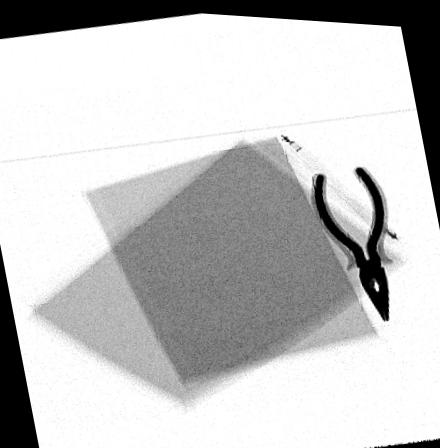Pliers: (312, 159, 390, 316)
